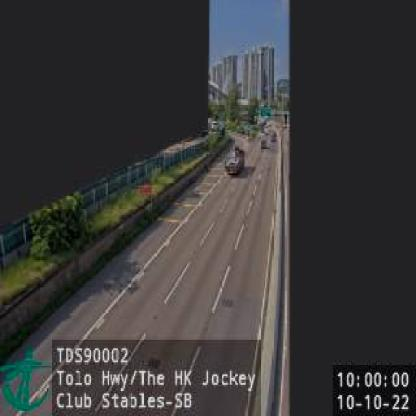Truck: (225, 148, 244, 176)
